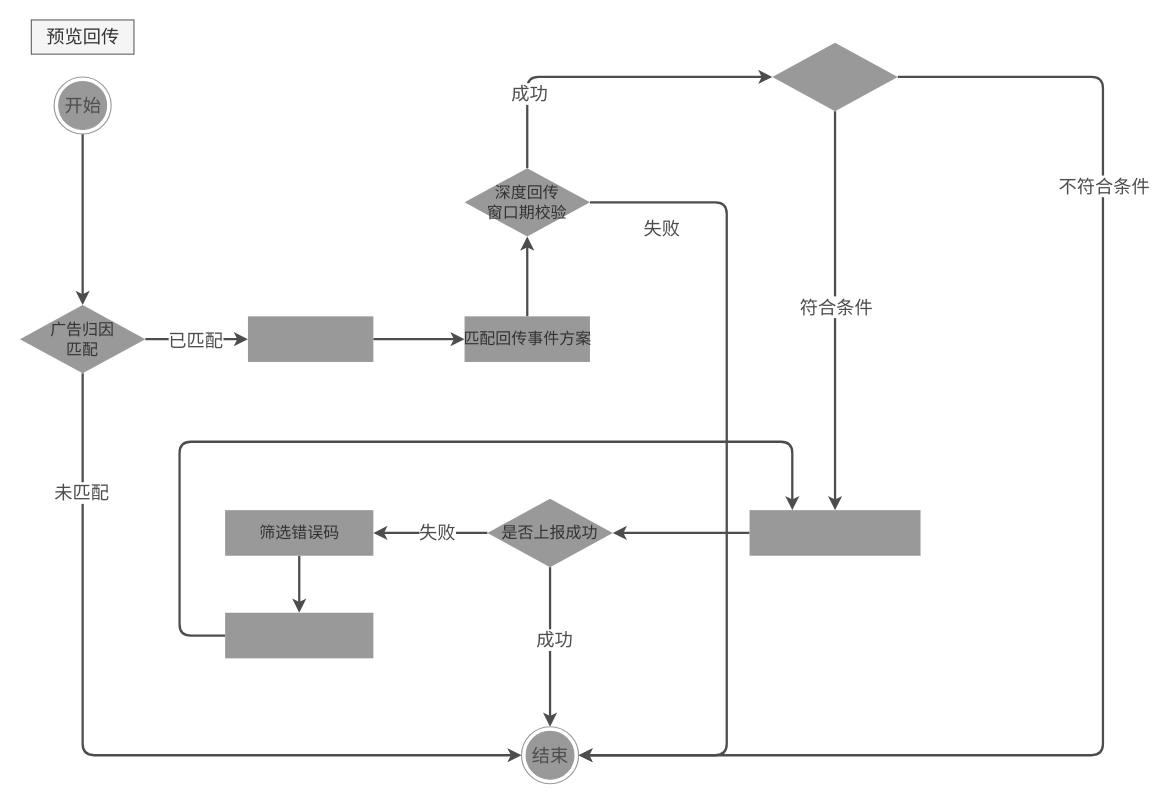
This 1169x804 diagram has some shape labels left out. Each missing label, with the box of its shape:
事件回传: (749, 510, 920, 555)
匹配广告渠道: (247, 316, 373, 361)
回传条件 校验: (772, 42, 897, 111)
预览事件回传重试 （3次重试）: (225, 612, 373, 658)
